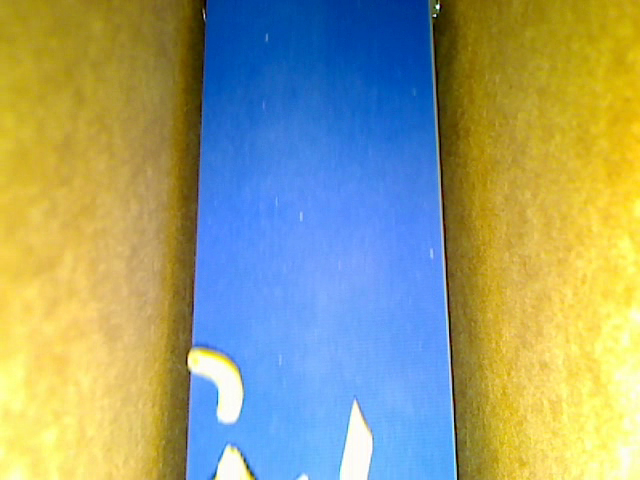elbow: (187, 346, 243, 423)
penne: (339, 397, 373, 479)
shell: (213, 441, 256, 479)
